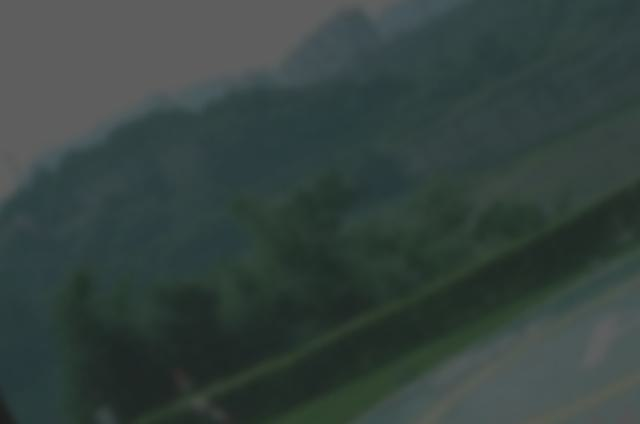Apron: (483, 341, 630, 395)
